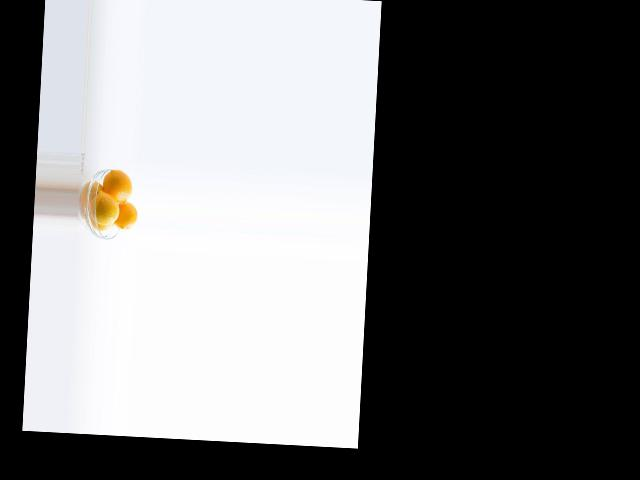lemon: (106, 167, 133, 205)
